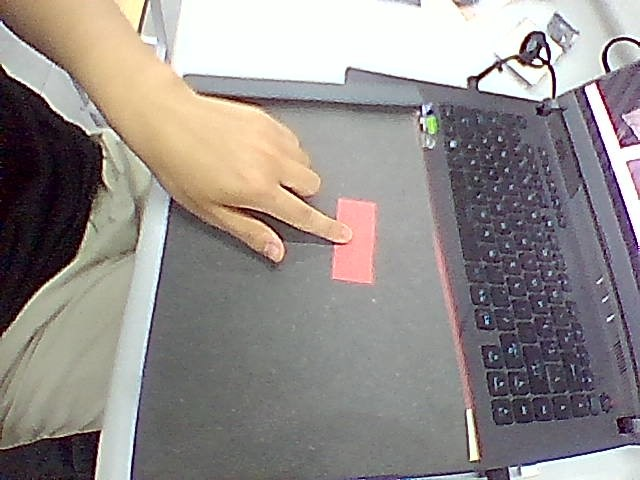card: (331, 198, 376, 284)
